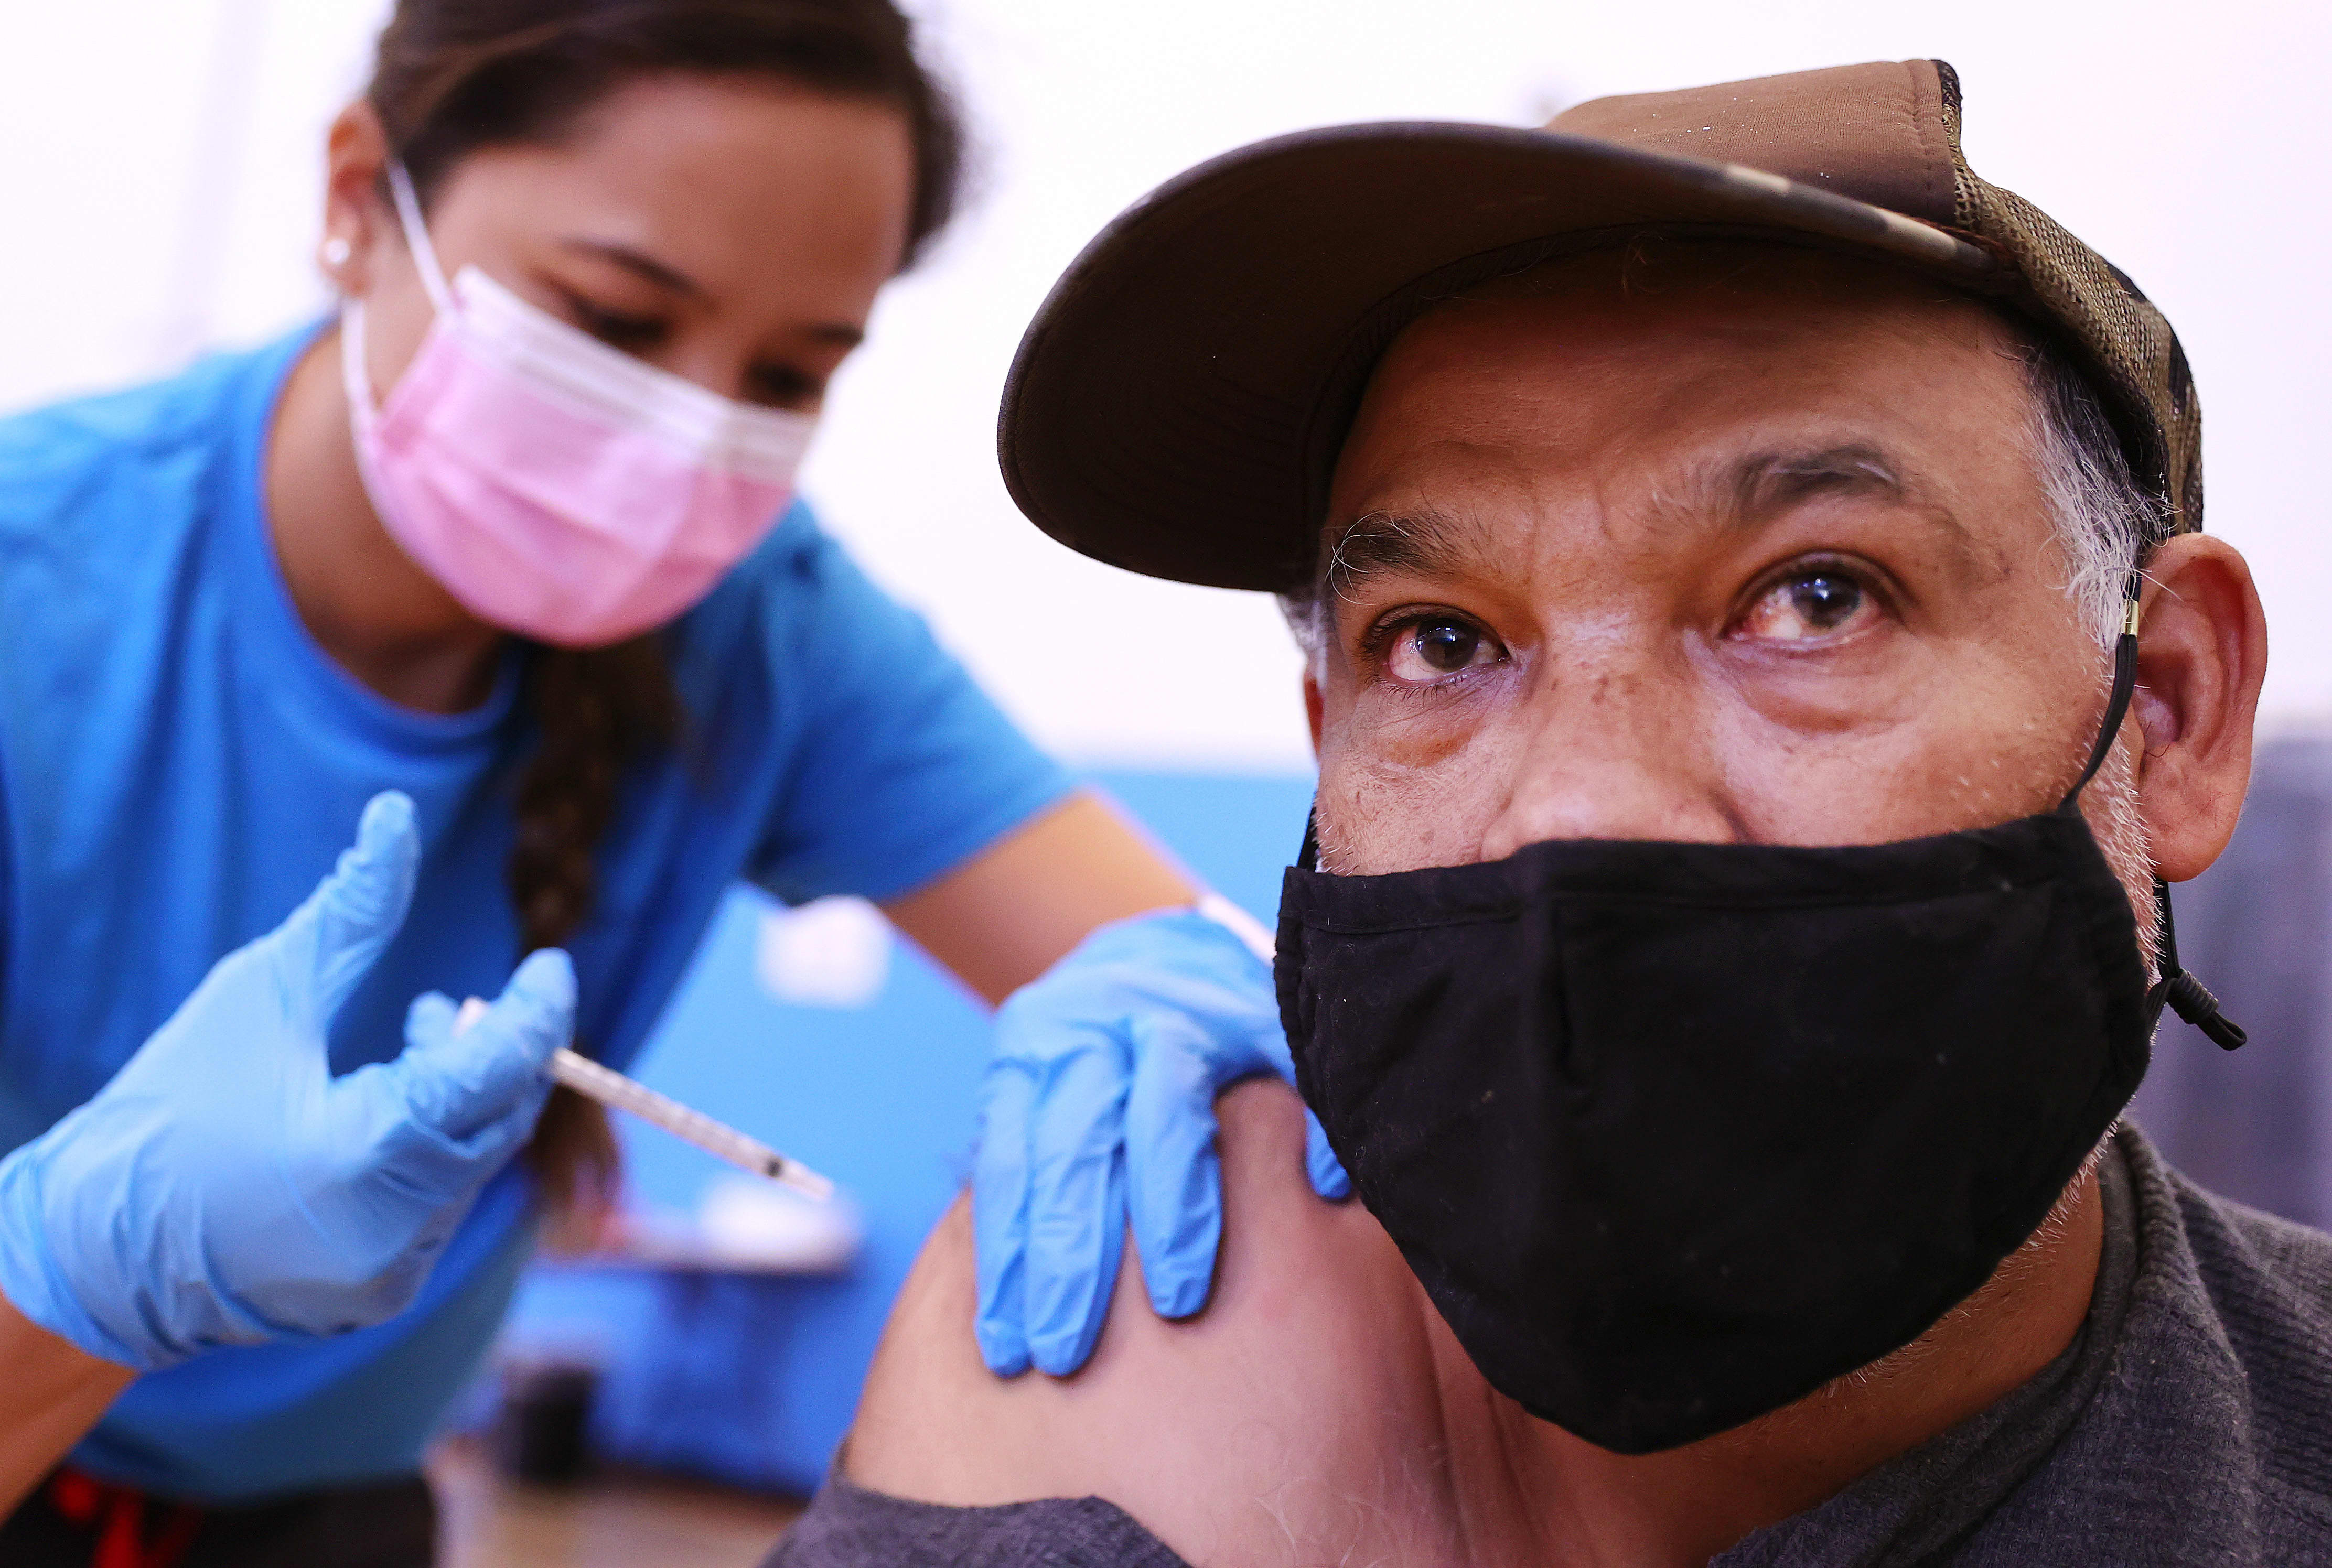with_mask: (1294, 586, 2081, 1367), (401, 185, 787, 612)
